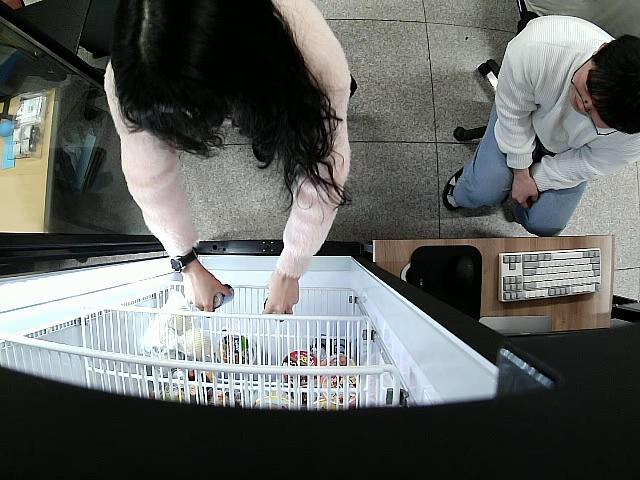00_hand: (181, 271, 231, 311), (263, 277, 299, 316), (509, 175, 541, 211)
16_hot6: (212, 281, 235, 308)
